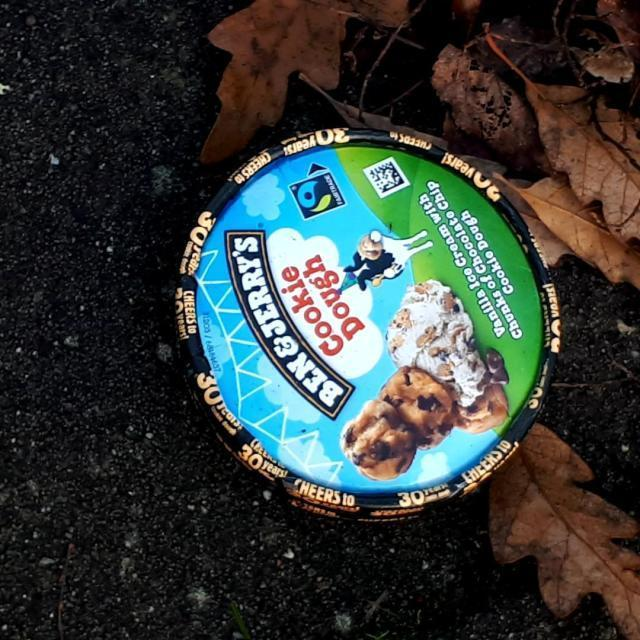Paper: (166, 122, 564, 528)
